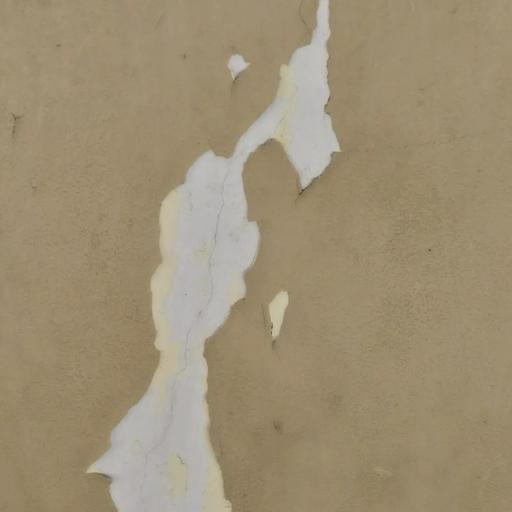peeling: (70, 0, 360, 512)
